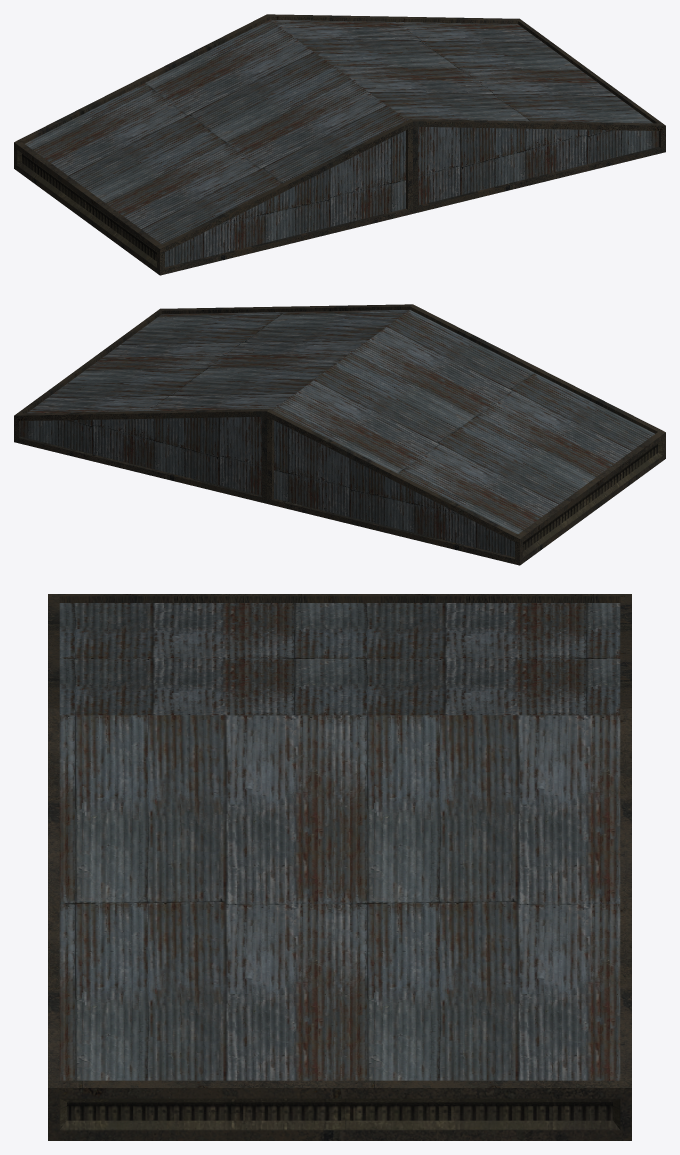
The model's file is roof_mh_3.obj.
3 views of the same model, one above another, from view 1: azimuth 30°, elevation 25°; view 2: azimuth 150°, elevation 25°; view 3: azimuth 270°, elevation 25° (orthographic). The views are drawn at different scales.
Parts seen in each view (by area): view 1: roof_mh_3; view 2: roof_mh_3; view 3: roof_mh_3.
Part boxes in pixels (x1,y1,x2,y2): roof_mh_3: (14,14,665,275); roof_mh_3: (14,304,665,565); roof_mh_3: (48,594,631,1140).
Bounding box in the file's own units: 8 × 1.4 × 4.
